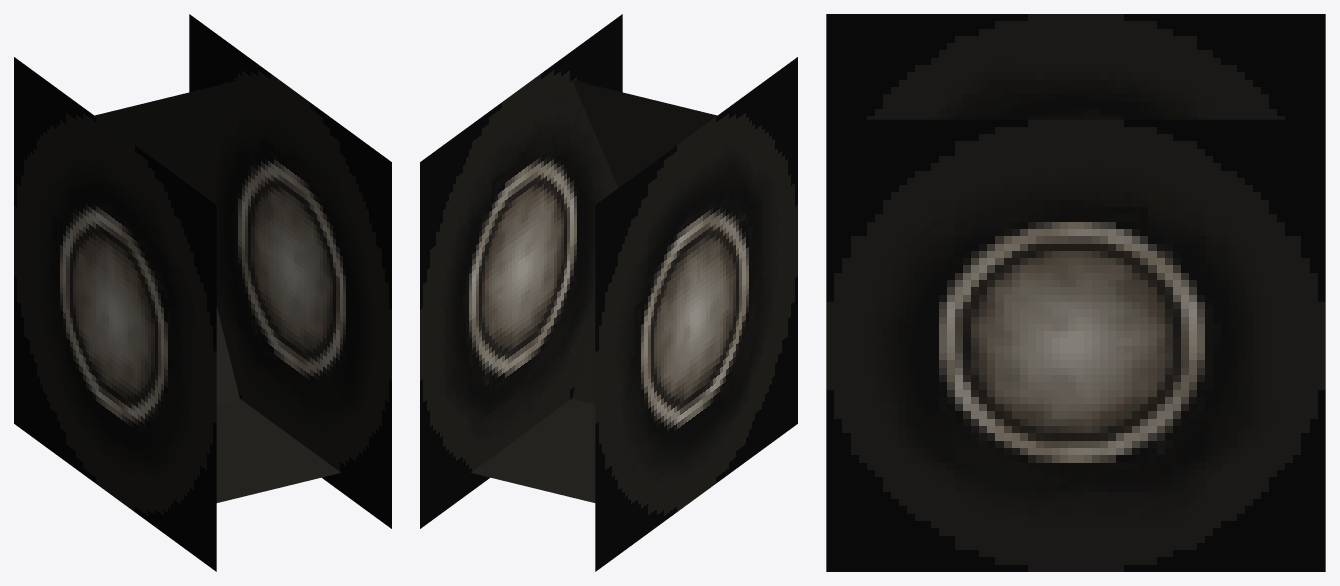
The picture shows the model from 3 angles, left to right: view 1: azimuth 30°, elevation 25°; view 2: azimuth 150°, elevation 25°; view 3: azimuth 270°, elevation 25°; orthographic projection. The views are drawn at different scales.
Visible parts, largest first — view 1: prim220-Cylinder01; view 2: prim220-Cylinder01; view 3: prim220-Cylinder01.
Boxes of the visible parts, box(x1,y1,x2,y2) form: prim220-Cylinder01: box(14, 14, 391, 571); prim220-Cylinder01: box(420, 14, 797, 571); prim220-Cylinder01: box(826, 14, 1325, 571).
Size of the model in its own units: 38 by 76 by 76.
2 materials, 2 textured.
